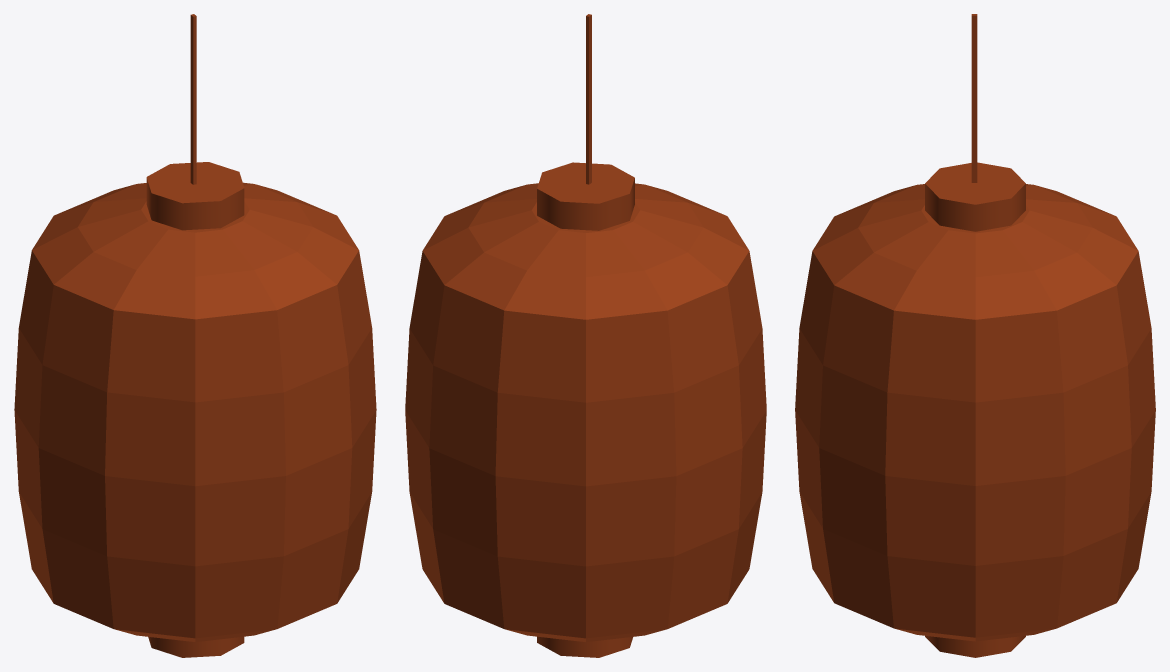
Rendered from SM_lantern_japanese_06.fbx.
The picture shows the model from 3 angles, left to right: view 1: azimuth 30°, elevation 25°; view 2: azimuth 150°, elevation 25°; view 3: azimuth 270°, elevation 25°; orthographic projection.
Visible parts, largest first — view 1: Cylinder004; view 2: Cylinder004; view 3: Cylinder004.
Boxes of the visible parts, x1,y1,x2,y2 form: Cylinder004: (14, 14, 376, 657); Cylinder004: (405, 14, 766, 657); Cylinder004: (795, 14, 1155, 657).
Size of the model in its own units: 19.97 by 19.97 by 37.91.
